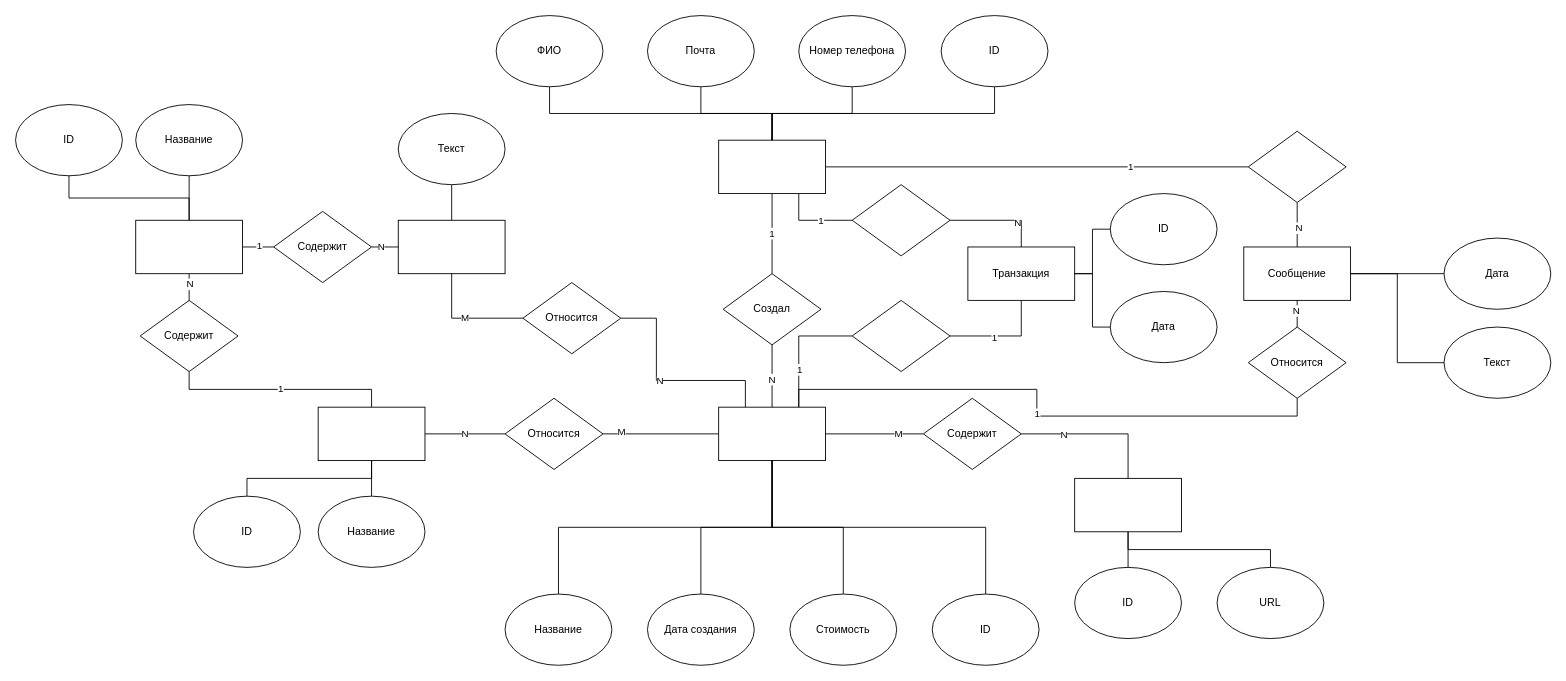
Some shapes in this 1566 by 681 pixel diagram are drawn without their labels. The centre of each missing label's shape, as x and y in pixels:
"Значение параметра" goes at (x=451, y=246).
"Объект" goes at (x=900, y=335).
"Объявление" goes at (x=771, y=433).
"Отправил Получил" goes at (x=1296, y=166).
"Пользователь" goes at (x=771, y=166).
"Субъект (Покупатель, Продавец)" goes at (x=900, y=220).
"Тип объявления" goes at (x=371, y=433).
"Тип параметра" goes at (x=189, y=246).
"Фотография" goes at (x=1127, y=504).
